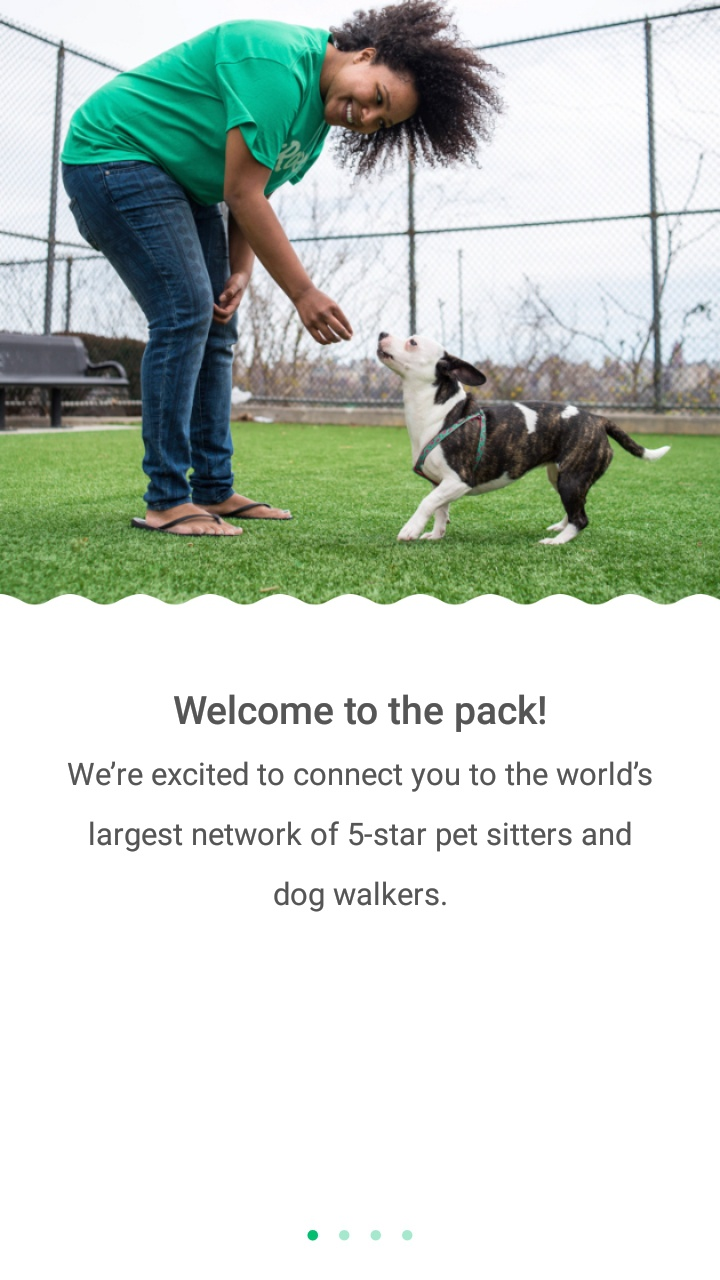Image: (1, 1, 720, 606)
PageIndicator: (307, 1229, 413, 1241)
Text: (68, 761, 653, 913), (174, 694, 546, 733)
